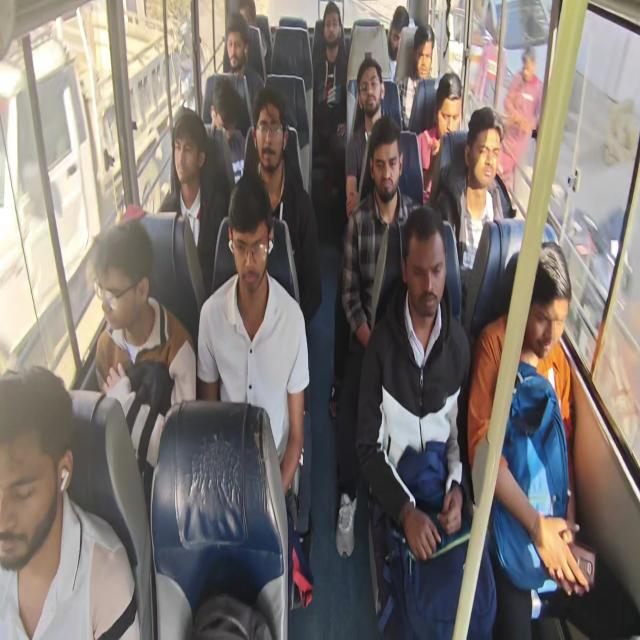person: (0, 406, 70, 565), (86, 231, 154, 339), (231, 184, 286, 297), (521, 271, 574, 372), (163, 115, 208, 202), (462, 122, 508, 194), (407, 234, 442, 318), (252, 108, 298, 166), (371, 128, 406, 204), (212, 77, 242, 140), (409, 30, 436, 85), (438, 78, 462, 137), (356, 60, 382, 114), (224, 28, 246, 74), (388, 8, 406, 62), (316, 8, 342, 45), (231, 0, 259, 30)
